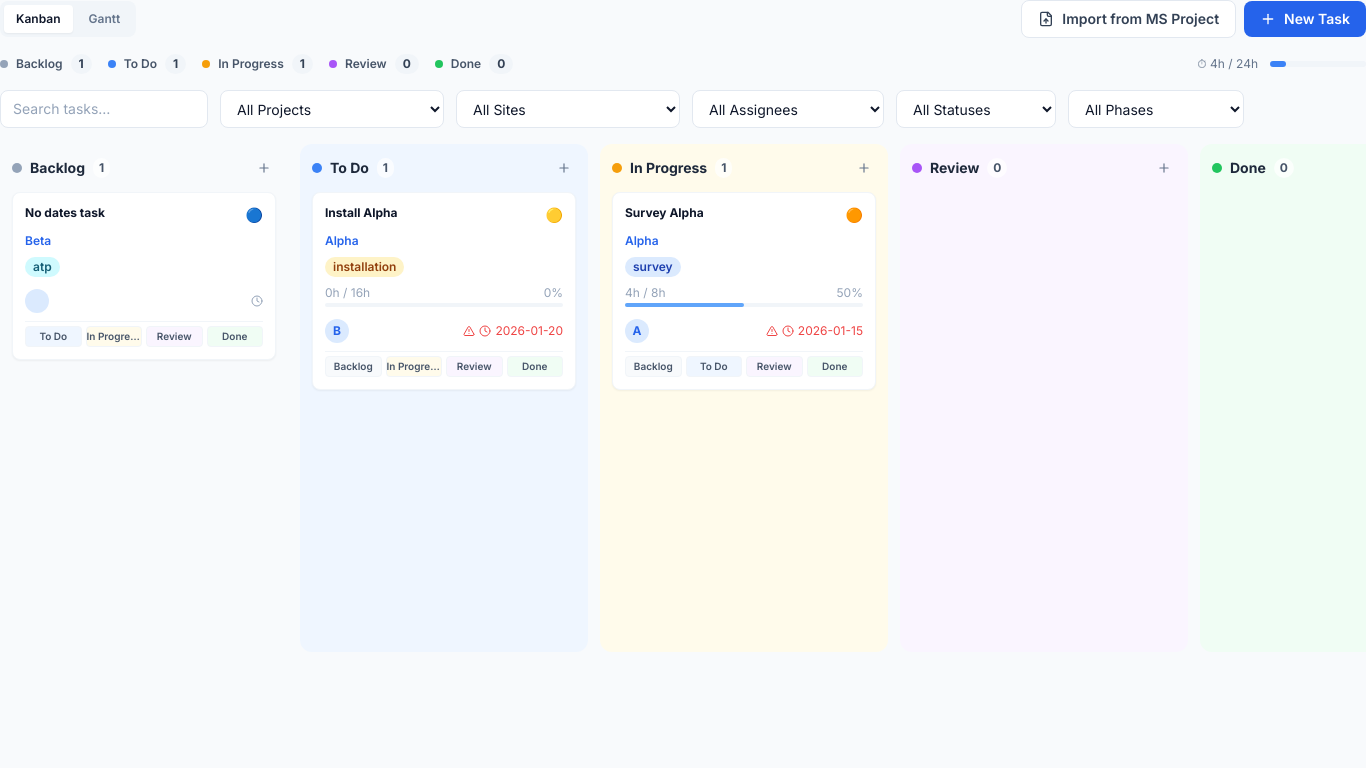
it: TaskBoard — tabs › clicking a task row opens the shared detail modal
Click the tab "gantt". click: point(104, 19)
box: [76,5,132,33]
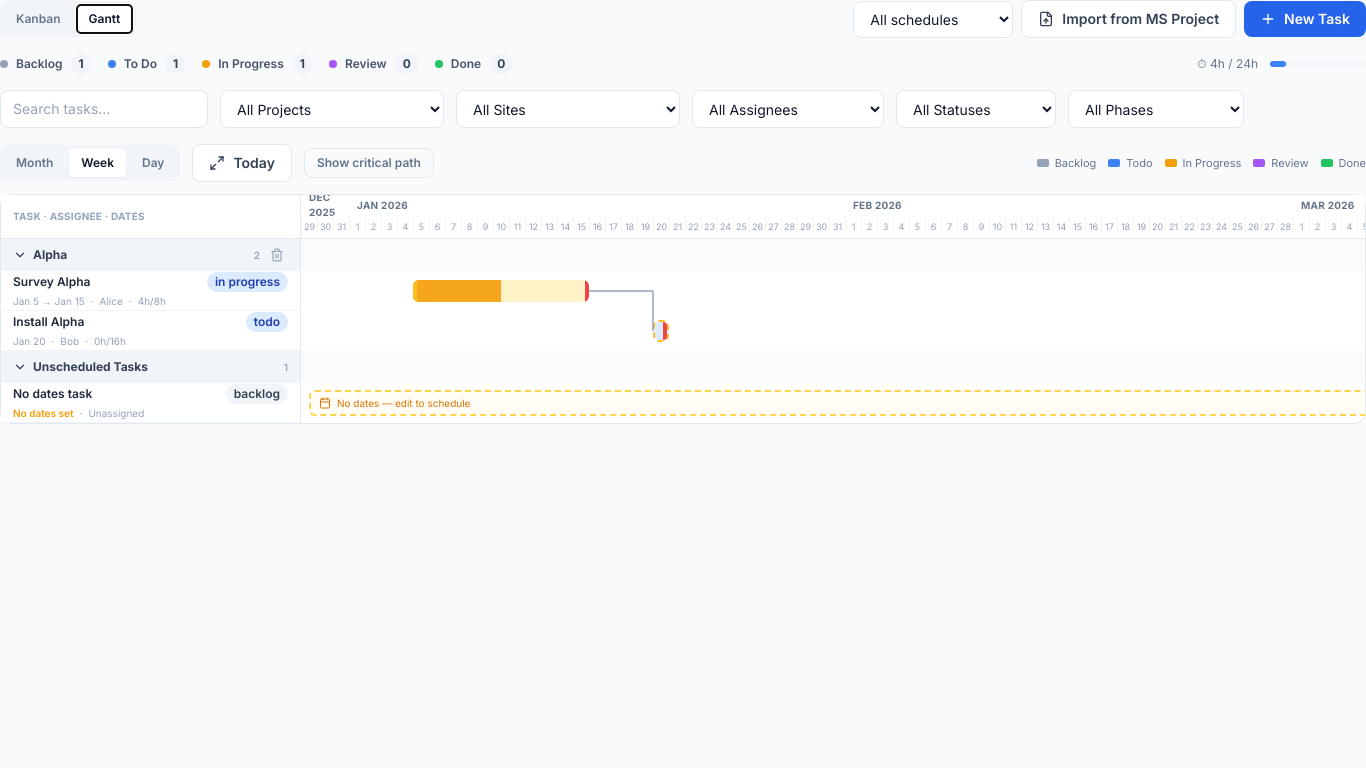
Expected: the text "Survey Alpha" is shown, [13,274,90,289]
Click the button with aria-label "Task Survey Alpha". click: point(52, 282)
box: [1,271,300,311]
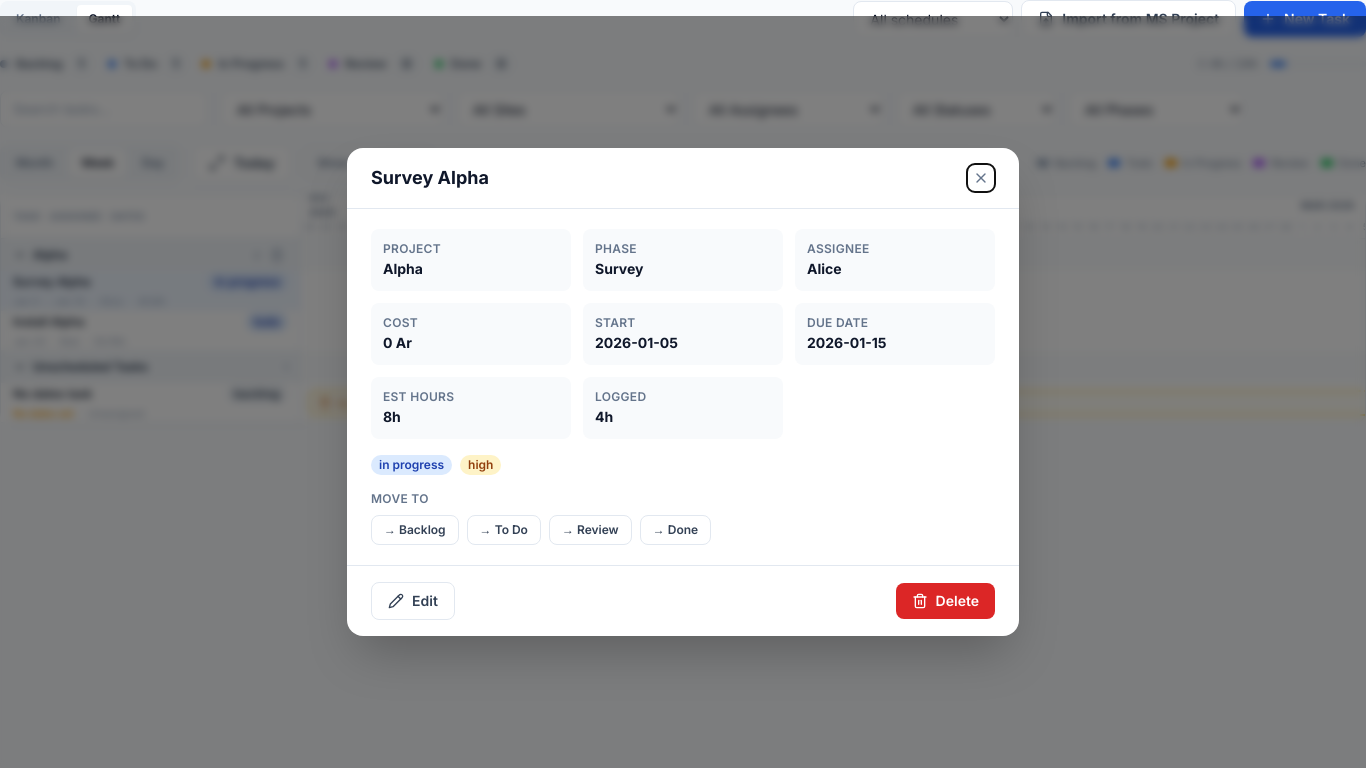
Result: the heading "Survey Alpha" is shown at [371,164,489,192]
Result: the text "in progress" is shown at [371,455,452,475]
Result: the text "2026-01-05" is shown at [595,334,678,351]
